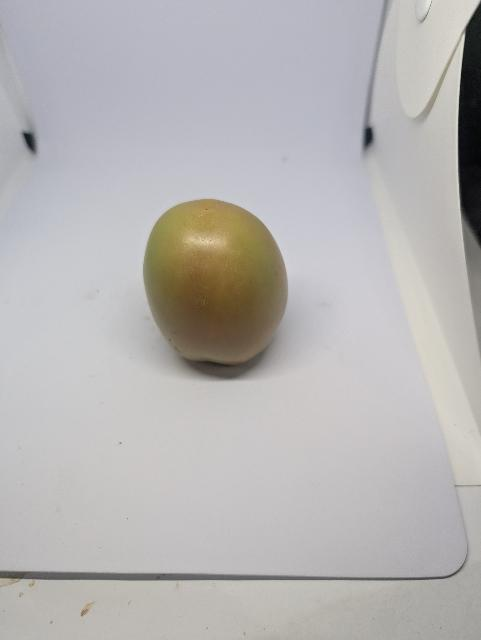breaker: (144, 199, 288, 365)
